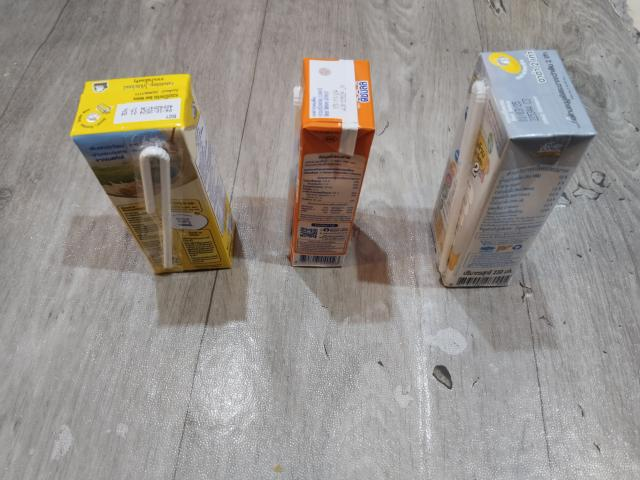drink_box: (420, 43, 614, 298), (65, 62, 244, 285), (281, 54, 385, 275)
